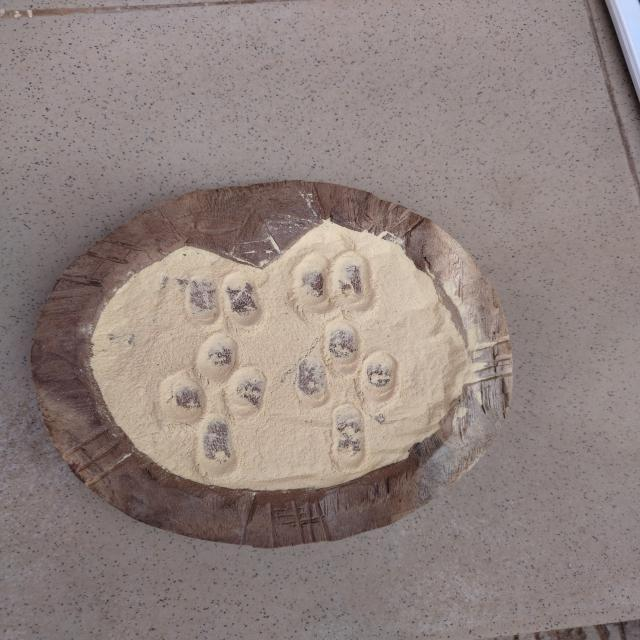double: (284, 248, 381, 316), (294, 349, 402, 407), (154, 366, 268, 420), (182, 270, 265, 330)
single: (318, 398, 374, 473), (186, 413, 244, 478), (190, 330, 240, 382), (320, 321, 364, 378)
